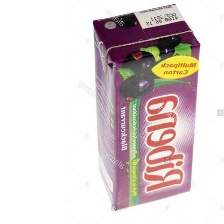carton: (91, 3, 203, 217)
